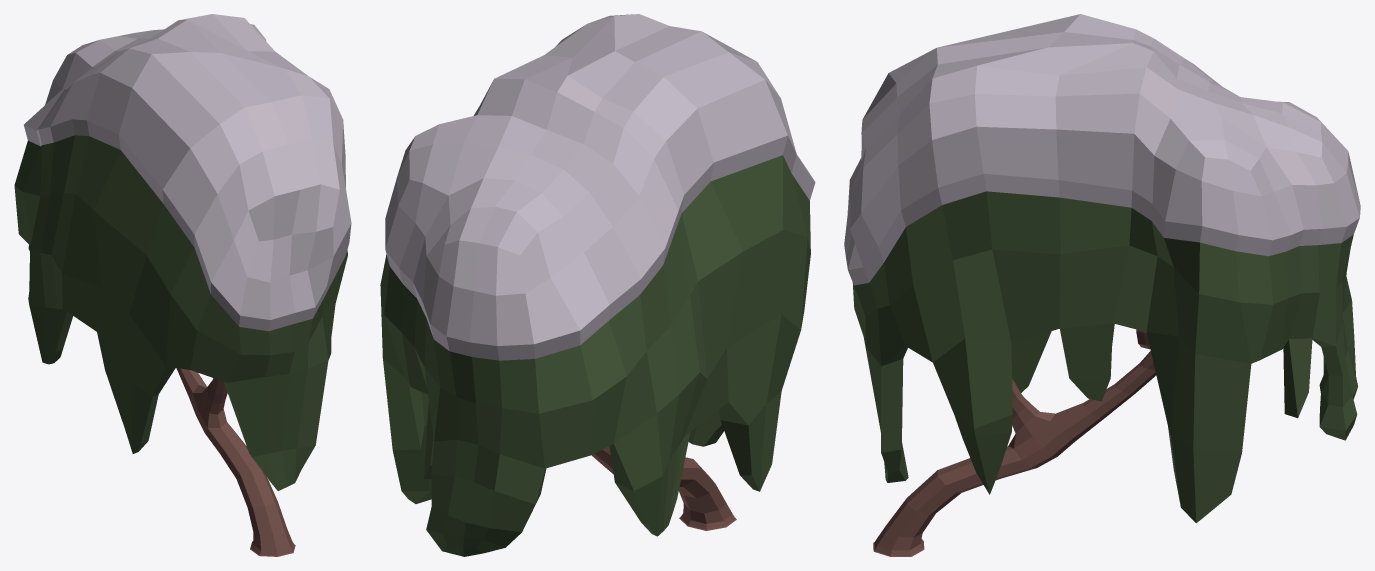
The model's file is Willow_Snow_2.glb.
3 renders of one model, left to right at view 1: azimuth 30°, elevation 25°; view 2: azimuth 150°, elevation 25°; view 3: azimuth 270°, elevation 25°, orthographic. The views are drawn at different scales.
Visible parts, largest first — view 1: Willow_Snow_2; view 2: Willow_Snow_2; view 3: Willow_Snow_2.
Part boxes in pixels (x1,y1,x2,y2): Willow_Snow_2: [14, 14, 351, 556]; Willow_Snow_2: [380, 14, 815, 556]; Willow_Snow_2: [844, 14, 1360, 556].
Size of the model in its own units: 1.95 by 3.46 by 3.16.
